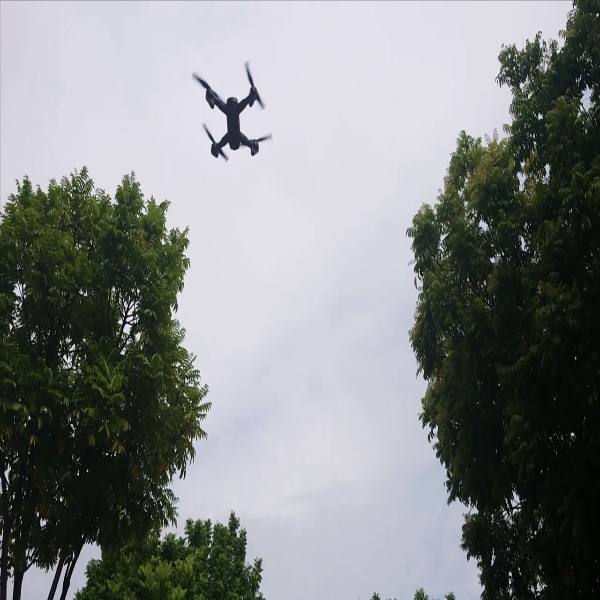drone: (183, 63, 274, 164)
